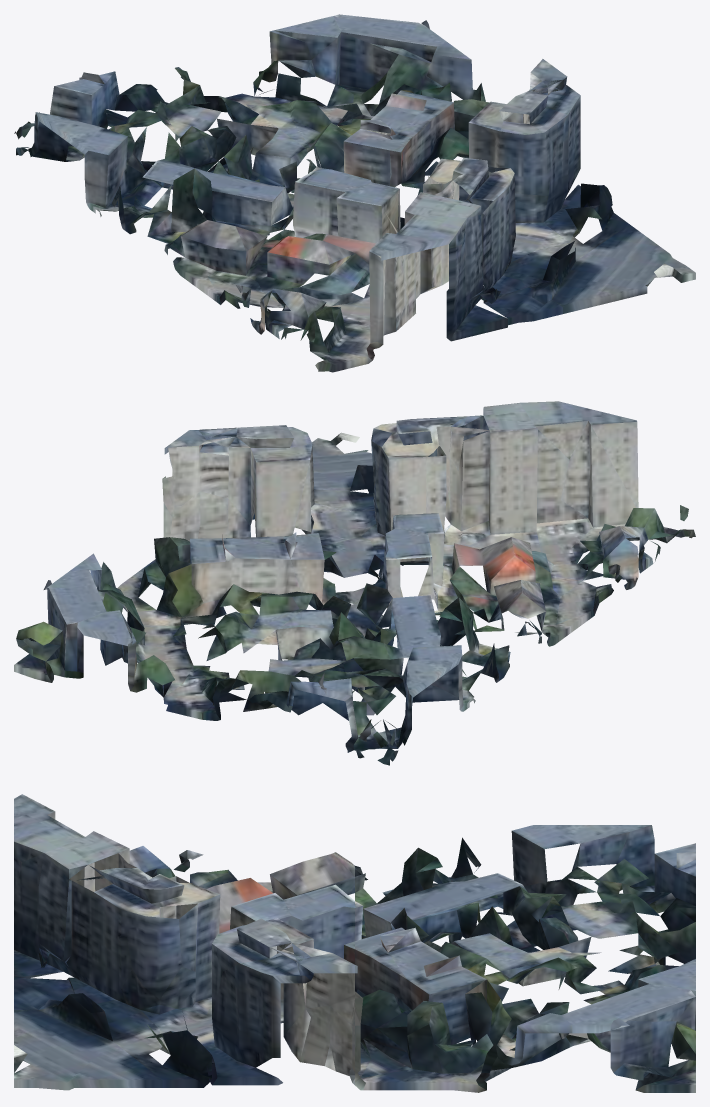
3 views of the same model, one above another, from view 1: azimuth 30°, elevation 25°; view 2: azimuth 150°, elevation 25°; view 3: azimuth 270°, elevation 25° (orthographic). The views are drawn at different scales.
Visible parts, largest first — view 1: 304362727043614155_0; view 2: 304362727043614155_0; view 3: 304362727043614155_0.
Part boxes in pixels (bbox=[...]): 304362727043614155_0: bbox=[14, 14, 695, 372]; 304362727043614155_0: bbox=[14, 401, 695, 765]; 304362727043614155_0: bbox=[14, 794, 695, 1092].
Bounding box in the file's own units: 110 × 32.06 × 153.
1 material, 1 textured.
